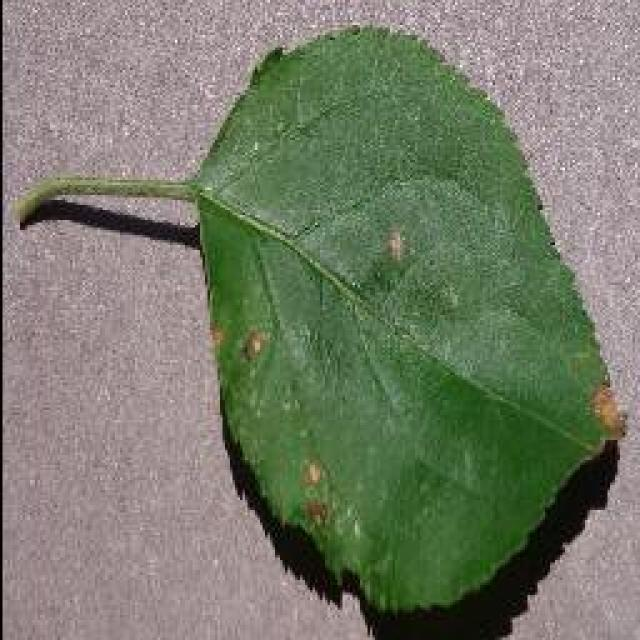black_rot: (289, 444, 340, 538), (590, 373, 630, 454), (237, 316, 279, 375)
